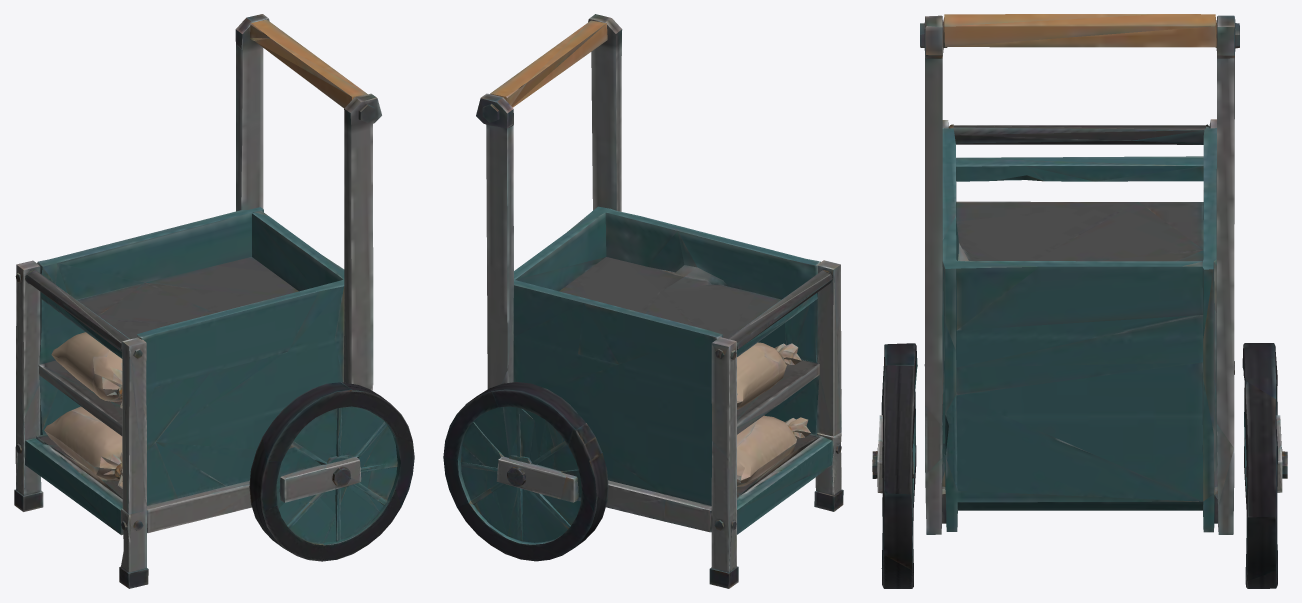
The model's file is flourCart.glb.
The picture shows the model from 3 angles, left to right: view 1: azimuth 30°, elevation 25°; view 2: azimuth 150°, elevation 25°; view 3: azimuth 270°, elevation 25°; orthographic projection. The views are drawn at different scales.
Visible parts, largest first — view 1: Mesh_0; view 2: Mesh_0; view 3: Mesh_0.
Boxes of the visible parts, <box> form: Mesh_0: <box>14,14,414,588</box>; Mesh_0: <box>443,14,843,588</box>; Mesh_0: <box>872,14,1287,588</box>.
Size of the model in its own units: 0.5 by 0.7703 by 0.4925.
1 material, 1 textured.
